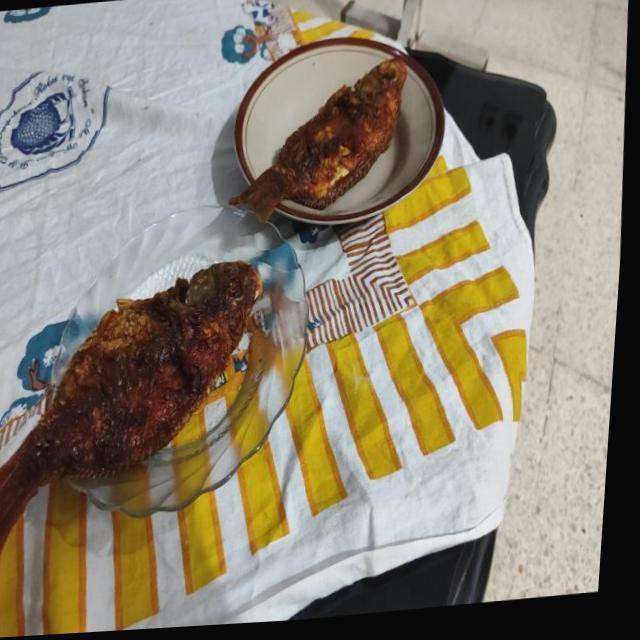ikan_mujair: (0, 261, 261, 554), (229, 58, 406, 220)
